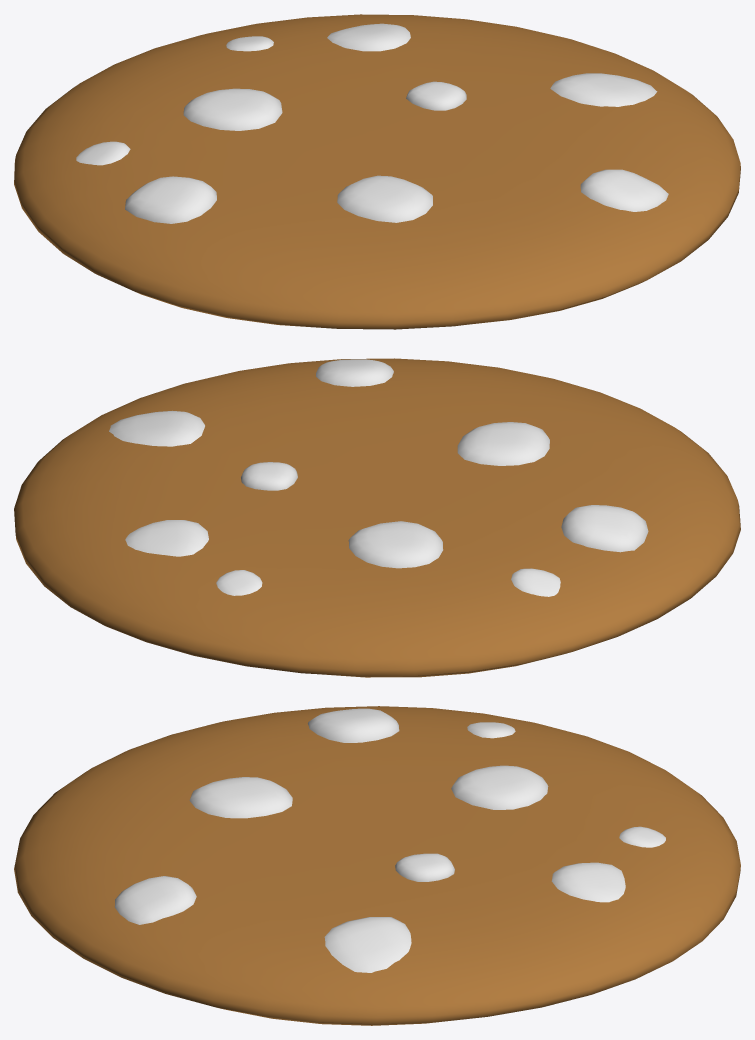
File: MovingPlatform.fbx
3 views of the same model, one above another, from view 1: azimuth 30°, elevation 25°; view 2: azimuth 150°, elevation 25°; view 3: azimuth 270°, elevation 25° (orthographic).
Visible parts, largest first — view 1: Bowl_Cookies_M_Normal_BotMass_0.001; view 2: Bowl_Cookies_M_Normal_BotMass_0.001; view 3: Bowl_Cookies_M_Normal_BotMass_0.001.
Boxes of the visible parts, box(x1,y1,x2,y2) form: Bowl_Cookies_M_Normal_BotMass_0.001: box(14, 14, 740, 329); Bowl_Cookies_M_Normal_BotMass_0.001: box(14, 358, 740, 677); Bowl_Cookies_M_Normal_BotMass_0.001: box(14, 706, 740, 1025).
Bounding box in the file's own units: 2 × 0.2 × 2.
